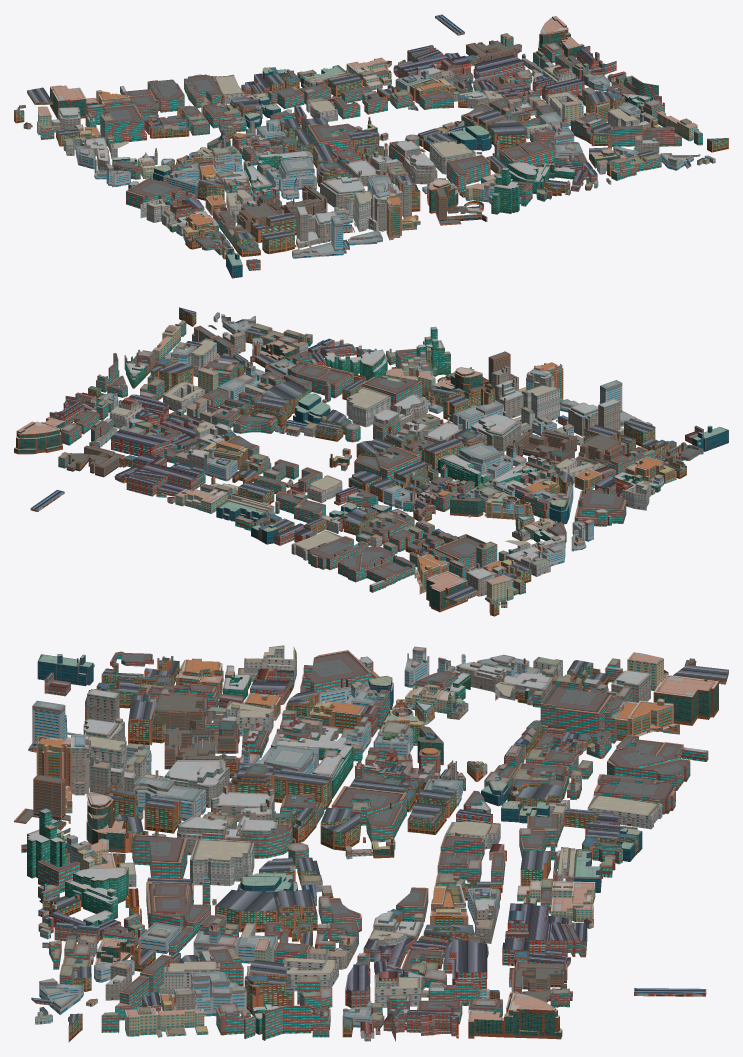
Rendered from Buildings_13_20223323222131_buildings_01_INDEX0.fbx.
3 views of the same model, one above another, from view 1: azimuth 30°, elevation 25°; view 2: azimuth 150°, elevation 25°; view 3: azimuth 270°, elevation 25° (orthographic). The views are drawn at different scales.
Parts seen in each view (by area): view 1: Buildings_13_20223323222131_buildings_01_INDEX0; view 2: Buildings_13_20223323222131_buildings_01_INDEX0; view 3: Buildings_13_20223323222131_buildings_01_INDEX0.
Boxes of the visible parts, bbox=[...] form: Buildings_13_20223323222131_buildings_01_INDEX0: bbox=[14, 14, 728, 278]; Buildings_13_20223323222131_buildings_01_INDEX0: bbox=[14, 307, 728, 616]; Buildings_13_20223323222131_buildings_01_INDEX0: bbox=[14, 645, 728, 1042].
Size of the model in its own units: 127050 by 11207 by 102439.
